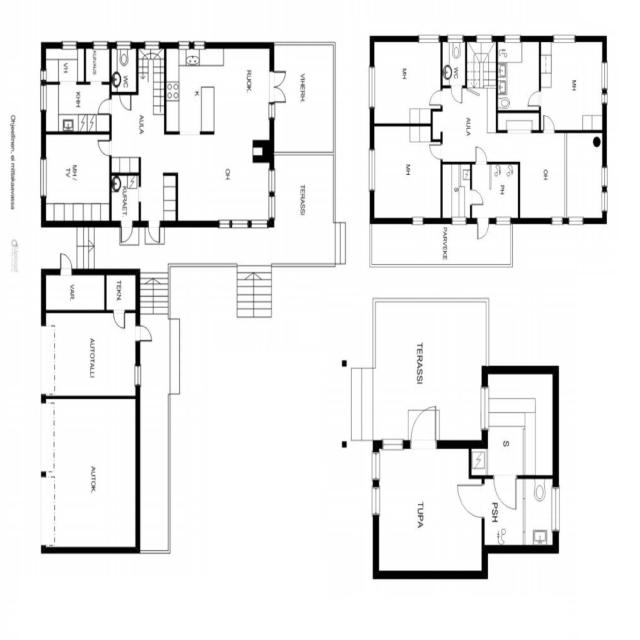door: (407, 404, 442, 452), (452, 477, 489, 521), (492, 470, 520, 512), (268, 67, 290, 114), (536, 98, 558, 130), (474, 36, 495, 62), (58, 248, 76, 276), (94, 134, 114, 158), (134, 322, 155, 344), (117, 218, 134, 244), (94, 95, 115, 116), (426, 139, 445, 162), (146, 219, 163, 244), (525, 86, 544, 108), (540, 110, 557, 134), (117, 89, 134, 113), (449, 82, 465, 107), (426, 87, 445, 108), (111, 307, 128, 330), (475, 216, 490, 242), (473, 144, 489, 166), (468, 187, 485, 207), (466, 82, 482, 101)
window: (35, 400, 53, 478), (381, 422, 423, 454), (36, 320, 53, 398), (368, 448, 384, 520), (213, 213, 266, 232), (550, 480, 563, 536), (478, 382, 492, 433), (266, 165, 278, 223), (599, 59, 610, 109), (548, 214, 584, 229), (367, 61, 378, 110), (367, 145, 378, 194), (379, 433, 407, 452), (38, 154, 49, 200), (37, 68, 48, 113), (549, 30, 579, 46), (415, 30, 442, 46), (600, 169, 610, 212), (501, 30, 525, 46), (175, 36, 198, 51), (474, 32, 494, 49), (132, 361, 144, 388), (445, 31, 465, 47), (492, 214, 514, 228), (142, 36, 162, 51), (90, 37, 110, 52), (59, 37, 79, 52), (190, 36, 208, 51), (448, 215, 469, 227), (115, 38, 133, 52), (410, 214, 427, 228), (267, 102, 278, 121)
zone: (40, 394, 140, 551), (372, 443, 483, 575), (164, 46, 272, 136), (172, 136, 274, 224), (41, 308, 136, 400), (518, 128, 602, 220), (483, 370, 555, 476), (372, 124, 440, 219), (540, 37, 604, 134), (42, 133, 111, 222), (371, 38, 441, 123), (483, 476, 553, 550), (43, 81, 110, 132), (498, 38, 538, 111), (470, 162, 520, 220), (42, 272, 108, 311), (442, 162, 472, 222), (42, 46, 86, 84), (110, 170, 140, 222), (110, 43, 136, 94), (105, 272, 138, 310), (442, 37, 466, 85), (85, 42, 112, 84)
